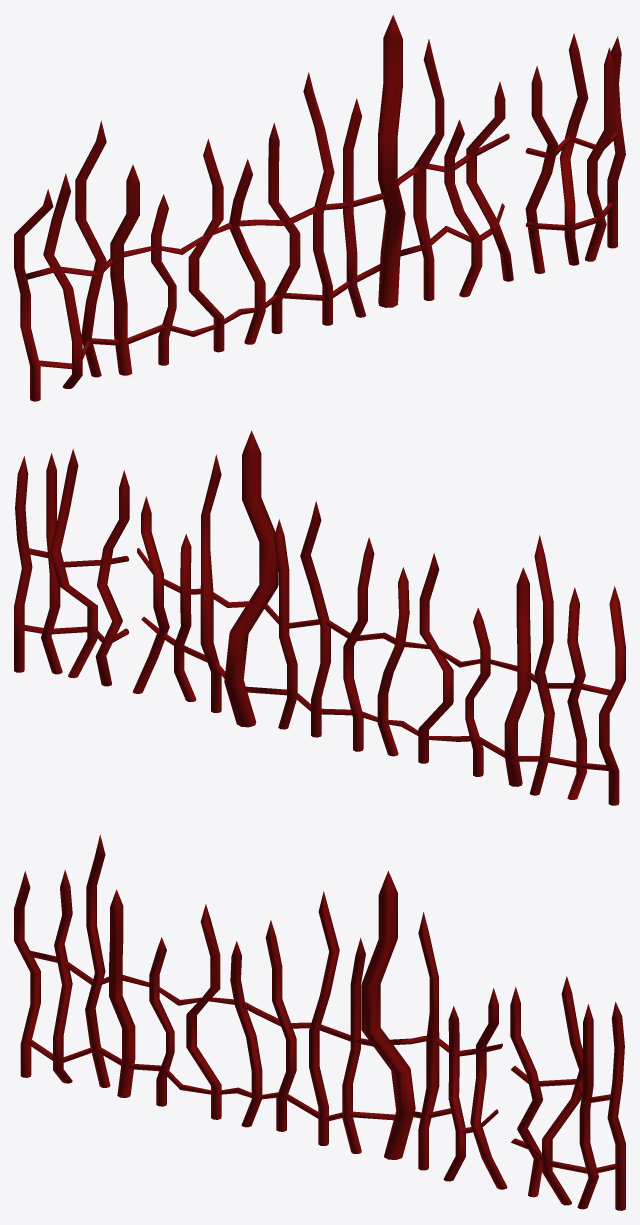
File: Fence.fbx
3 views of the same model, one above another, from view 1: azimuth 30°, elevation 25°; view 2: azimuth 150°, elevation 25°; view 3: azimuth 330°, elevation 25° (orthographic).
Visible parts, largest first — view 1: Fence_GEO; view 2: Fence_GEO; view 3: Fence_GEO.
Boxes of the visible parts, x1,y1,x2,y2 form: Fence_GEO: [14, 15, 625, 401]; Fence_GEO: [14, 430, 625, 805]; Fence_GEO: [14, 834, 625, 1210].
Size of the model in its own units: 694 by 318 by 58.16.
